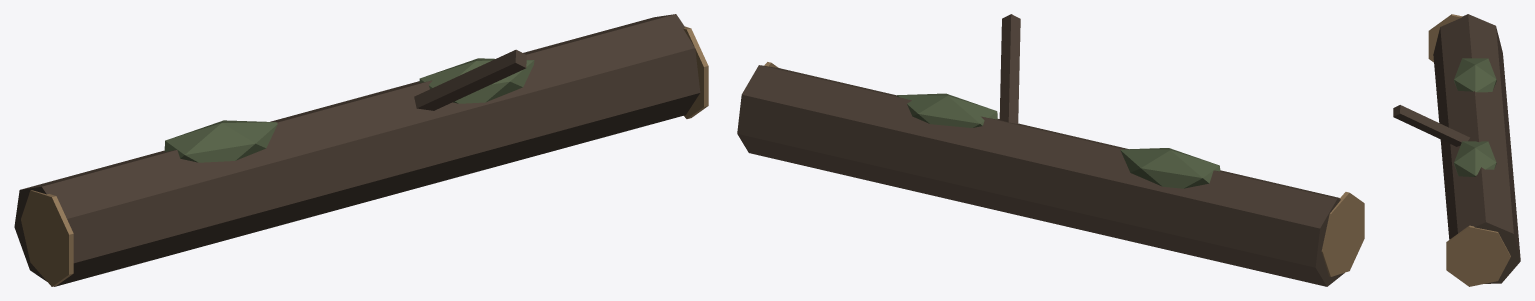
The model's file is fallen_log.glb.
The picture shows the model from 3 angles, left to right: view 1: azimuth 30°, elevation 25°; view 2: azimuth 150°, elevation 25°; view 3: azimuth 270°, elevation 25°; orthographic projection. The views are drawn at different scales.
Visible parts, largest first — view 1: fallen trunk, cut end, moss on log, broken branch, moss on log.001, cut end.001; view 2: fallen trunk, moss on log, cut end, moss on log.001, broken branch; view 3: fallen trunk, cut end.001, moss on log, moss on log.001, broken branch, cut end.
Part boxes in pixels (left/top/right/bottom): fallen trunk: left=14, top=14, right=700, bottom=286; cut end: left=21, top=190, right=73, bottom=286; moss on log: left=164, top=120, right=277, bottom=162; broken branch: left=414, top=49, right=526, bottom=110; moss on log.001: left=419, top=58, right=534, bottom=103; cut end.001: left=683, top=26, right=708, bottom=118; fallen trunk: left=737, top=65, right=1344, bottom=286; moss on log: left=1120, top=148, right=1220, bottom=188; cut end: left=1321, top=192, right=1364, bottom=276; moss on log.001: left=897, top=93, right=997, bottom=127; broken branch: left=999, top=14, right=1020, bottom=123; fallen trunk: left=1433, top=14, right=1520, bottom=283; cut end.001: left=1446, top=225, right=1510, bottom=286; moss on log: left=1454, top=58, right=1496, bottom=92; moss on log.001: left=1454, top=141, right=1496, bottom=176; broken branch: left=1393, top=105, right=1469, bottom=146; cut end: left=1428, top=14, right=1462, bottom=62.
Bounding box in the file's own units: 1.41 × 0.3366 × 0.3573.
